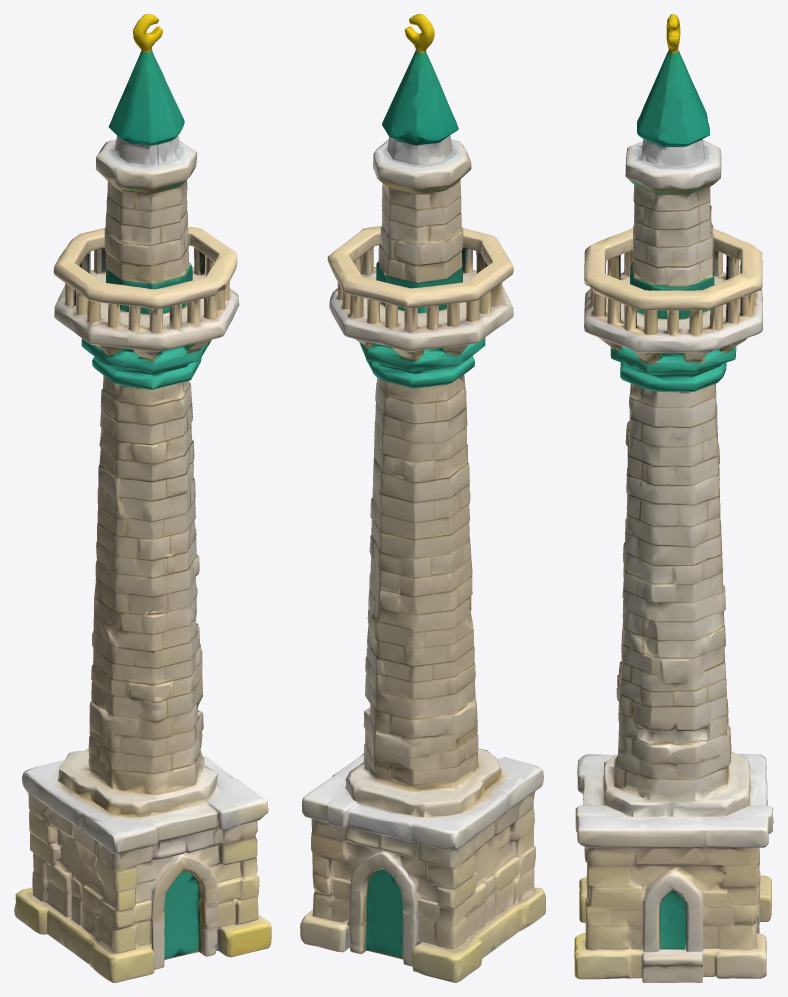
File: minaret.glb
3 renders of one model, left to right at view 1: azimuth 30°, elevation 25°; view 2: azimuth 150°, elevation 25°; view 3: azimuth 270°, elevation 25°, orthographic.
Visible parts, largest first — view 1: tripo_node_1a6c566b-cbf2-4015-83b1-178263a39b49; view 2: tripo_node_1a6c566b-cbf2-4015-83b1-178263a39b49; view 3: tripo_node_1a6c566b-cbf2-4015-83b1-178263a39b49.
Part boxes in pixels (<box>): tripo_node_1a6c566b-cbf2-4015-83b1-178263a39b49: <box>14,14,271,982</box>; tripo_node_1a6c566b-cbf2-4015-83b1-178263a39b49: <box>300,14,545,982</box>; tripo_node_1a6c566b-cbf2-4015-83b1-178263a39b49: <box>574,14,773,982</box>.
Size of the model in its own units: 0.1973 by 1 by 0.1946.
1 material, 1 textured.
